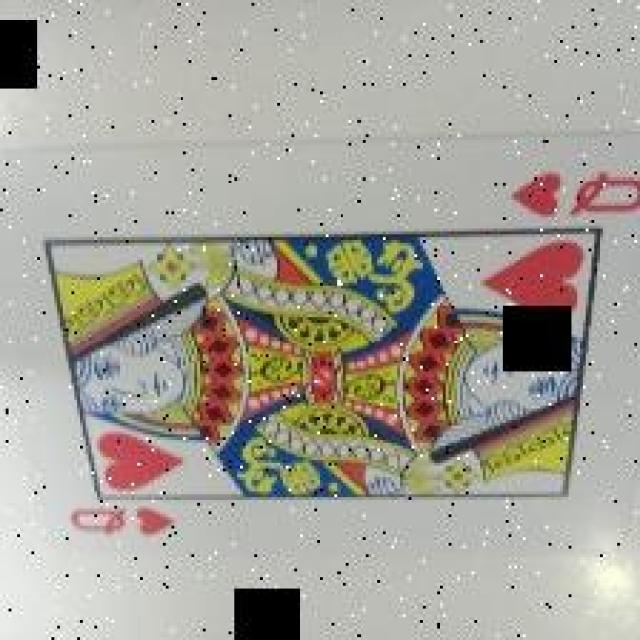Queen of hearts: (54, 132, 640, 562)
